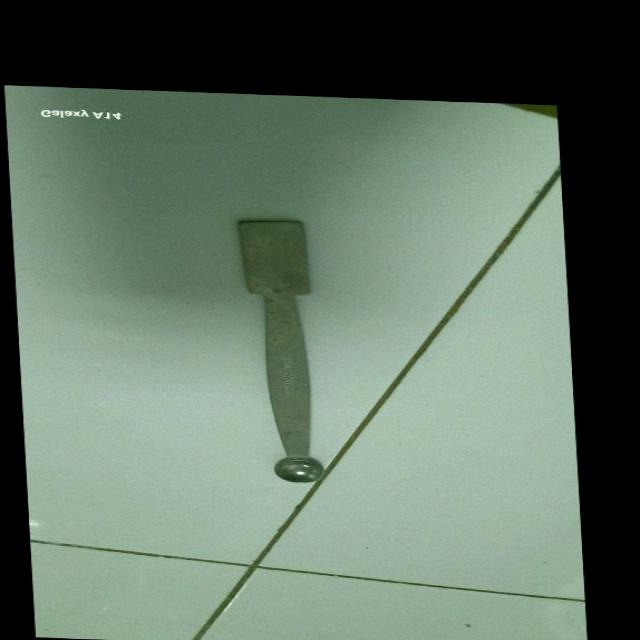Spatula: (229, 219, 335, 489)
